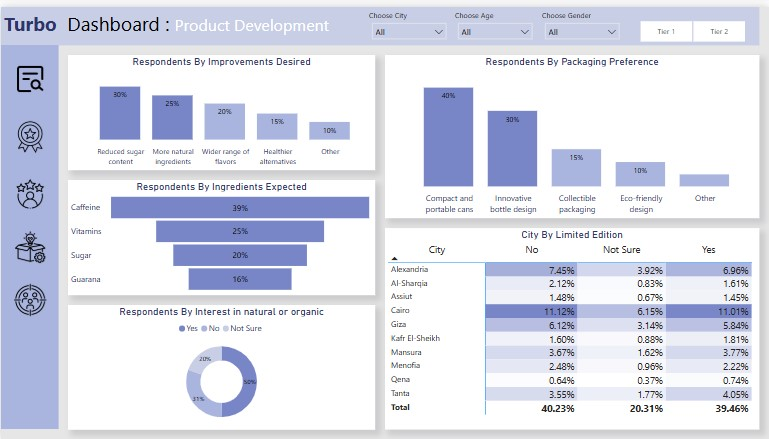

Layout of this report page (visuals, bound fields, positions):
{"tool":"powerbi","page":{"name":"Product improvment","canvas":[1280,720],"ordinal":3},"visuals":[{"type":"columnChart","title":"Respondents By Improvements Desired","fields":{"Category":["fact_survey_responses.Improvements_desired"],"Y":["CountNonNull(fact_survey_responses.Response_ID)"]},"box":[112,80,512,192],"z":0},{"type":"funnel","title":"Respondents By Ingredients Expected","fields":{"Category":["fact_survey_responses.Ingredients_expected"],"Y":["CountNonNull(fact_survey_responses.Response_ID)"]},"box":[112,288,512,192],"z":1000},{"type":"donutChart","title":"Respondents By Interest in natural or organic","fields":{"Category":["fact_survey_responses.Interest_in_natural_or_organic"],"Y":["CountNonNull(fact_survey_responses.Response_ID)"]},"box":[112,496,512,208],"z":2000},{"type":"pivotTable","title":"City By Limited Edition","fields":{"Rows":["dim_cities.City"],"Values":["CountNonNull(fact_survey_responses.Response_ID)"],"Columns":["fact_survey_responses.Limited_edition_packaging"]},"box":[640,368,624,336],"z":3000},{"type":"textbox","box":[0,0,1264,64],"z":4000},{"type":"columnChart","title":"Respondents By Packaging Preference","fields":{"Category":["fact_survey_responses.Packaging_preference"],"Y":["CountNonNull(fact_survey_responses.Response_ID)"]},"box":[640,80,624,272],"z":5000},{"type":"slicer","title":"City","fields":{"Values":["dim_cities.City"]},"box":[608,16,144,48],"z":6000},{"type":"slicer","title":"Age","fields":{"Values":["dim_repondents.Age"]},"box":[752,16,144,48],"z":7000},{"type":"slicer","title":"Gender","fields":{"Values":["dim_repondents.Gender"]},"box":[896,16,144,48],"z":8000},{"type":"slicer","fields":{"Values":["dim_cities.Tier"]},"box":[1040,16,224,48],"z":9000},{"type":"shape","box":[0,64,96,640],"z":10000},{"type":"image","box":[16,80,64,80],"z":11000},{"type":"image","box":[16,176,64,80],"z":12000},{"type":"image","box":[16,272,64,80],"z":13000},{"type":"image","box":[16,368,64,64],"z":14000},{"type":"image","box":[16,448,64,80],"z":15000},{"type":"textbox","box":[752,0,112,32],"z":16000},{"type":"textbox","box":[608,0,112,32],"z":17000},{"type":"textbox","box":[896,0,112,32],"z":18000}]}

Visuals, with their boxes in screenshot pixels (x1, y1, x2, y2), scaled from the page's 1280x720 canvas onto the 769x439 screenshot:
"Respondents By Improvements Desired" columnChart: select_region(67, 49, 375, 166)
"Respondents By Ingredients Expected" funnel: select_region(67, 176, 375, 293)
"Respondents By Interest in natural or organic" donutChart: select_region(67, 302, 375, 429)
"City By Limited Edition" pivotTable: select_region(384, 224, 759, 429)
textbox: select_region(0, 0, 759, 39)
"Respondents By Packaging Preference" columnChart: select_region(384, 49, 759, 215)
"City" slicer: select_region(365, 10, 452, 39)
"Age" slicer: select_region(452, 10, 538, 39)
"Gender" slicer: select_region(538, 10, 625, 39)
slicer - dim_cities.Tier: select_region(625, 10, 759, 39)
shape: select_region(0, 39, 58, 429)
image: select_region(10, 49, 48, 98)
image: select_region(10, 107, 48, 156)
image: select_region(10, 166, 48, 215)
image: select_region(10, 224, 48, 263)
image: select_region(10, 273, 48, 322)
textbox: select_region(452, 0, 519, 20)
textbox: select_region(365, 0, 433, 20)
textbox: select_region(538, 0, 606, 20)
